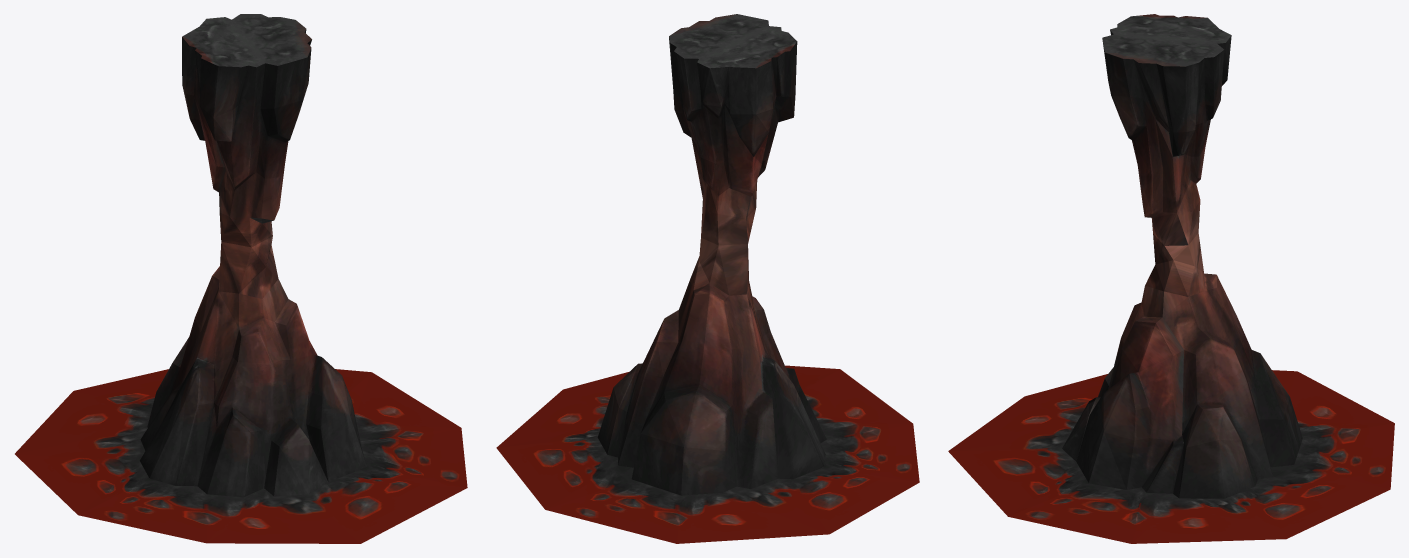
The model's file is lava_column_01.fbx.
The picture shows the model from 3 angles, left to right: view 1: azimuth 30°, elevation 25°; view 2: azimuth 150°, elevation 25°; view 3: azimuth 270°, elevation 25°; orthographic projection. The views are drawn at different scales.
Visible parts, largest first — view 1: obj1.028; view 2: obj1.028; view 3: obj1.028.
Boxes of the visible parts, <box> form: obj1.028: <box>15,14,467,543</box>; obj1.028: <box>496,14,919,543</box>; obj1.028: <box>948,14,1394,543</box>.
Size of the model in its own units: 10.28 by 10.97 by 10.8.
